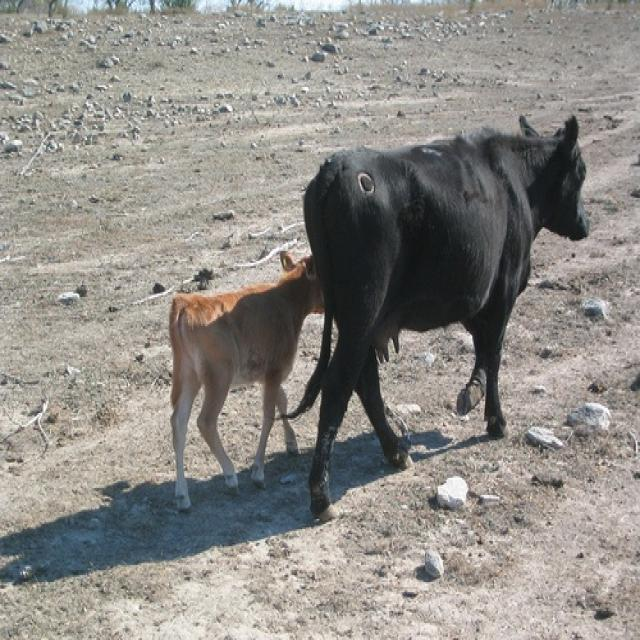cow: (302, 116, 597, 541), (160, 249, 342, 501)
